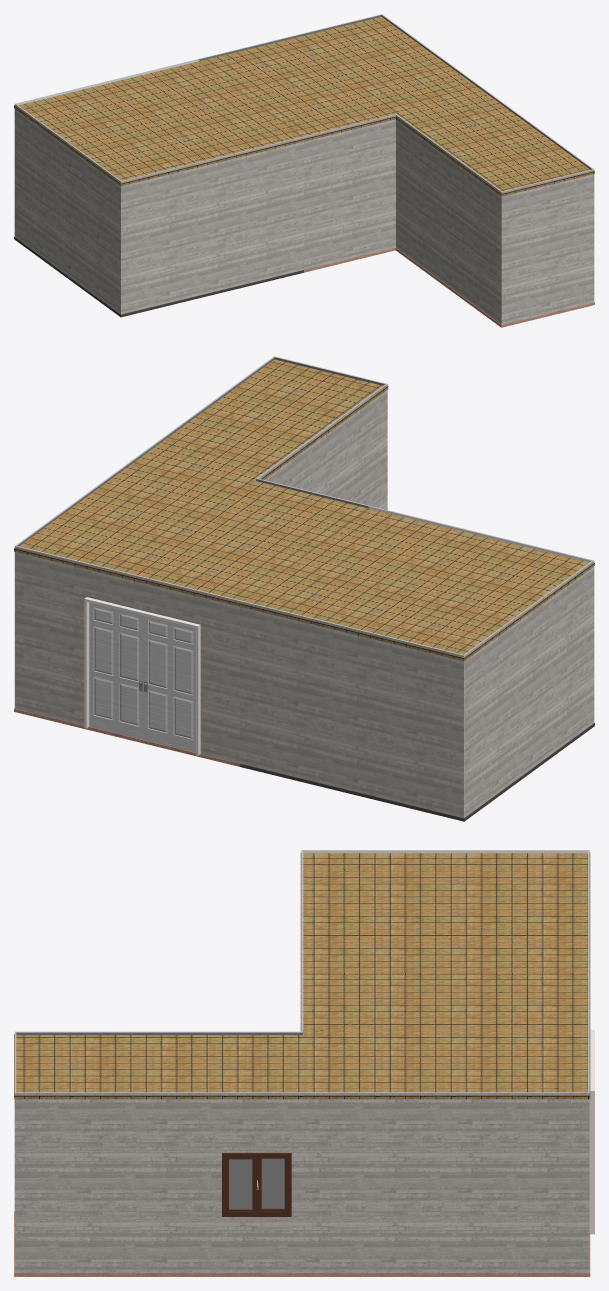
The model's file is ProcTHOR-Train-128.glb.
3 renders of one model, top to bottom at view 1: azimuth 30°, elevation 25°; view 2: azimuth 150°, elevation 25°; view 3: azimuth 270°, elevation 25°, orthographic. The views are drawn at different scales.
Visible parts, largest first — view 1: Ceiling#room|2|c, WallInside#wall|exterior|3.76|3.76|7.52|3.76, Ceiling#room|3|c, WallInside#wall|exterior|7.52|0.00|7.52|3.76, WallInside#wall|exterior|1.88|3.76|1.88|7.52, WallInside#wall|exterior|0.00|7.52|1.88|7.52, WallInside#wall|exterior|1.88|3.76|3.76|3.76, Floor#room|2|f, Floor#room|3|f, WallInside#wall|2|0.00|0.00|0.00|7.52, WallInside#wall|2|0.00|0.00|3.76|0.00, WallInside#wall|3|3.76|0.00|7.52|0.00; view 2: Ceiling#room|2|c, WallInside#wall|exterior|3.76|0.00|7.52|0.00, Ceiling#room|3|c, WallInside#wall|exterior|0.00|0.00|3.76|0.00, WallInside#wall|exterior|7.52|0.00|7.52|3.76, WallInside#wall|exterior|1.88|3.76|1.88|7.52, Doorway_Door_2b, Doorway_Door_2a, Doorway_Double_2, Floor#room|3|f, WallInside#wall|2|0.00|0.00|0.00|7.52, Floor#room|2|f (+1 smaller); view 3: WallInside#wall|exterior|0.00|0.00|0.00|7.52, Ceiling#room|2|c, Ceiling#room|3|c, WallInside#wall|2|1.88|3.76|1.88|7.52, Floor#room|2|f, Window_Slider_36x36, Doorway_Double_2, WallInside#wall|3|7.52|0.00|7.52|3.76, WallInside#wall|exterior|1.88|3.76|1.88|7.52, WallInside#wall|2|0.00|0.00|0.00|7.52.
Part boxes in pixels (box(x1,y1,x2,y2)): Ceiling#room|2|c: box(198, 17, 594, 196); WallInside#wall|exterior|3.76|3.76|7.52|3.76: box(121, 136, 304, 314); Ceiling#room|3|c: box(14, 61, 304, 186); WallInside#wall|exterior|7.52|0.00|7.52|3.76: box(14, 104, 120, 314); WallInside#wall|exterior|1.88|3.76|1.88|7.52: box(396, 114, 501, 324); WallInside#wall|exterior|0.00|7.52|1.88|7.52: box(501, 169, 594, 324); WallInside#wall|exterior|1.88|3.76|3.76|3.76: box(304, 114, 395, 269); Floor#room|2|f: box(304, 247, 594, 327); Floor#room|3|f: box(14, 236, 305, 317); WallInside#wall|2|0.00|0.00|0.00|7.52: box(381, 14, 593, 169); WallInside#wall|2|0.00|0.00|3.76|0.00: box(198, 14, 381, 60); WallInside#wall|3|3.76|0.00|7.52|0.00: box(16, 59, 199, 105); Ceiling#room|2|c: box(14, 359, 388, 606); WallInside#wall|exterior|3.76|0.00|7.52|0.00: box(238, 600, 463, 817); Ceiling#room|3|c: box(238, 508, 594, 661); WallInside#wall|exterior|0.00|0.00|3.76|0.00: box(15, 546, 239, 763); WallInside#wall|exterior|7.52|0.00|7.52|3.76: box(464, 560, 594, 817); WallInside#wall|exterior|1.88|3.76|1.88|7.52: box(257, 384, 387, 509); Doorway_Door_2b: box(89, 602, 143, 739); Doorway_Door_2a: box(144, 616, 195, 752); Doorway_Double_2: box(84, 597, 200, 755); Floor#room|3|f: box(240, 723, 594, 821); WallInside#wall|2|0.00|0.00|0.00|7.52: box(16, 357, 274, 546); Floor#room|2|f: box(14, 708, 240, 766); WallInside#wall|exterior|0.00|0.00|0.00|7.52: box(14, 1092, 589, 1273); Ceiling#room|2|c: box(14, 973, 590, 1099); Ceiling#room|3|c: box(300, 852, 590, 974); WallInside#wall|2|1.88|3.76|1.88|7.52: box(15, 1032, 302, 1209); Floor#room|2|f: box(14, 1211, 590, 1276); Window_Slider_36x36: box(222, 1153, 291, 1216); Doorway_Double_2: box(589, 1029, 594, 1234); WallInside#wall|3|7.52|0.00|7.52|3.76: box(301, 850, 588, 853); WallInside#wall|exterior|1.88|3.76|1.88|7.52: box(15, 1031, 302, 1032); WallInside#wall|2|0.00|0.00|0.00|7.52: box(16, 1092, 587, 1092).
Size of what is drawn, in the model's own units: 7.58 by 2.66 by 7.62.
Materials: 159 (76 with a texture image).
